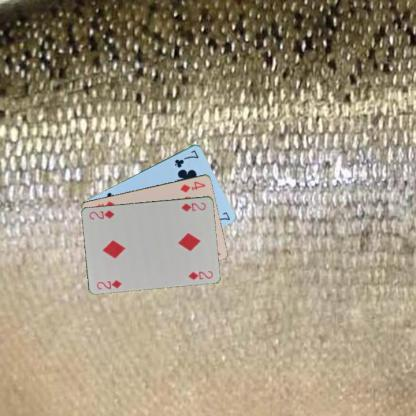2d: (94, 277, 123, 291), (178, 200, 208, 213)
4d: (177, 178, 207, 194)
7c: (172, 147, 200, 169)
